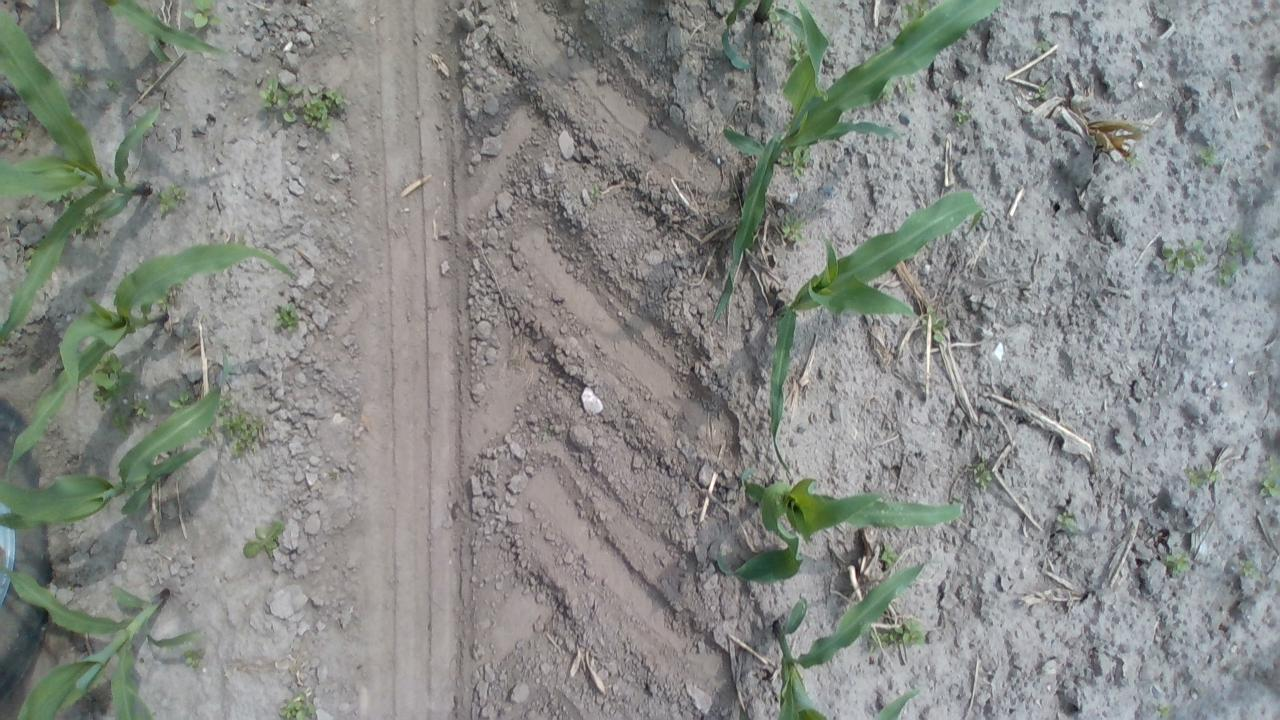Maize: (706, 0, 1002, 325), (0, 242, 301, 478), (766, 184, 988, 480), (0, 0, 164, 344), (0, 350, 235, 535), (0, 553, 207, 720), (714, 452, 970, 587), (756, 558, 932, 720), (96, 0, 231, 64), (716, 0, 792, 75)
Weeds: (261, 77, 350, 136), (217, 400, 271, 460), (1156, 235, 1210, 281), (865, 621, 937, 655), (90, 355, 138, 404), (241, 517, 289, 565), (1218, 229, 1258, 285), (105, 397, 161, 436), (776, 141, 816, 179), (276, 688, 322, 720), (1254, 450, 1280, 505), (181, 0, 224, 32), (774, 206, 810, 242), (873, 75, 920, 101), (1182, 465, 1222, 492), (918, 308, 948, 344), (784, 37, 816, 70), (154, 183, 188, 214), (270, 300, 300, 334), (1164, 550, 1200, 578), (876, 541, 904, 575), (964, 459, 994, 490), (1052, 509, 1084, 538), (1196, 140, 1222, 172), (180, 646, 210, 669), (74, 206, 98, 234), (1232, 555, 1262, 577), (585, 179, 609, 206), (899, 1, 928, 22), (766, 5, 784, 38), (1151, 700, 1180, 720), (952, 98, 972, 127), (1032, 36, 1056, 58), (1028, 80, 1052, 102), (69, 67, 90, 91), (169, 391, 191, 410), (1122, 148, 1142, 166), (104, 76, 122, 94)
